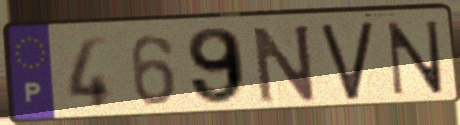4: (63, 34, 116, 112)
6: (127, 32, 180, 109)
9: (186, 25, 251, 109)
N: (250, 21, 319, 107), (385, 17, 446, 98)
V: (317, 17, 376, 103)
